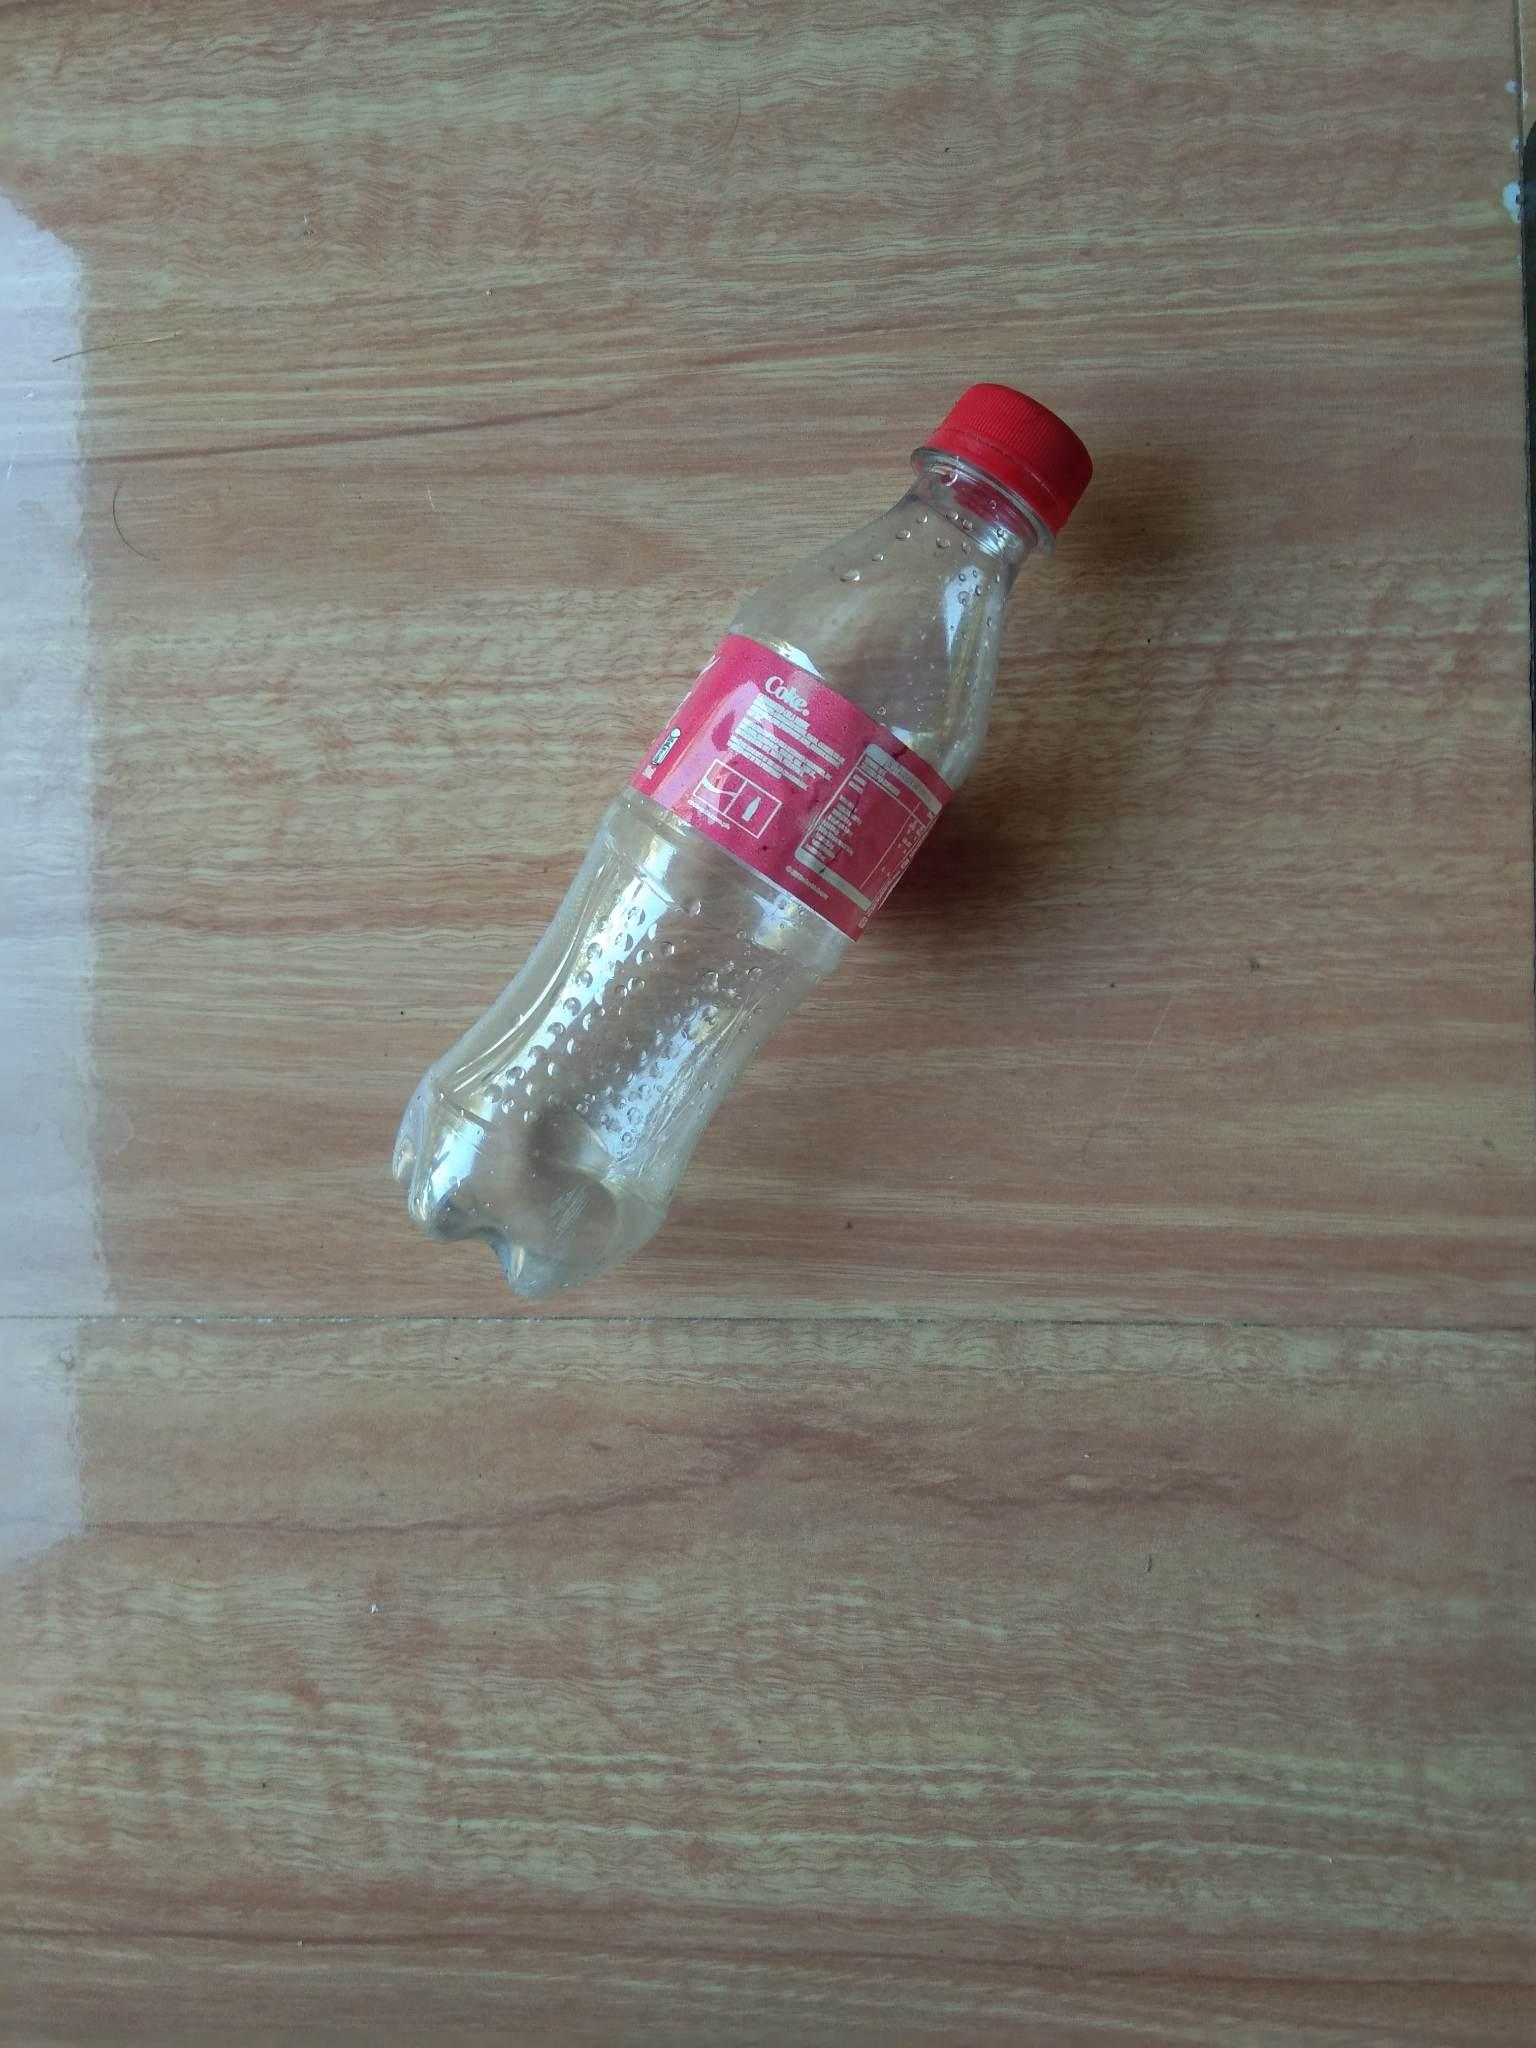plastic: (336, 364, 1117, 1300)
